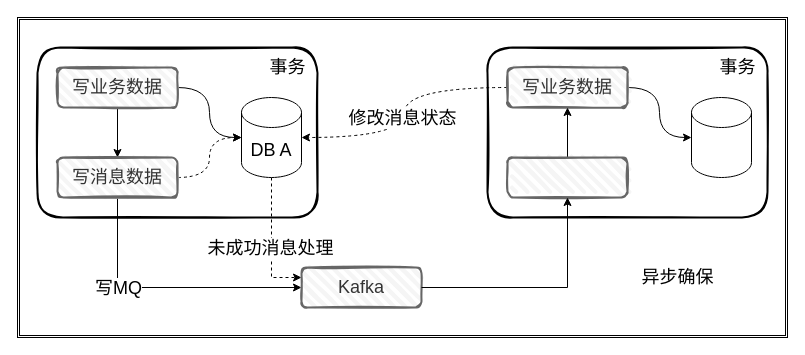
This 805x355 diagram has some shape labels left out. Each missing label, with the box of its shape:
DB B: (690, 96, 752, 178)
读消息: (506, 156, 628, 198)
